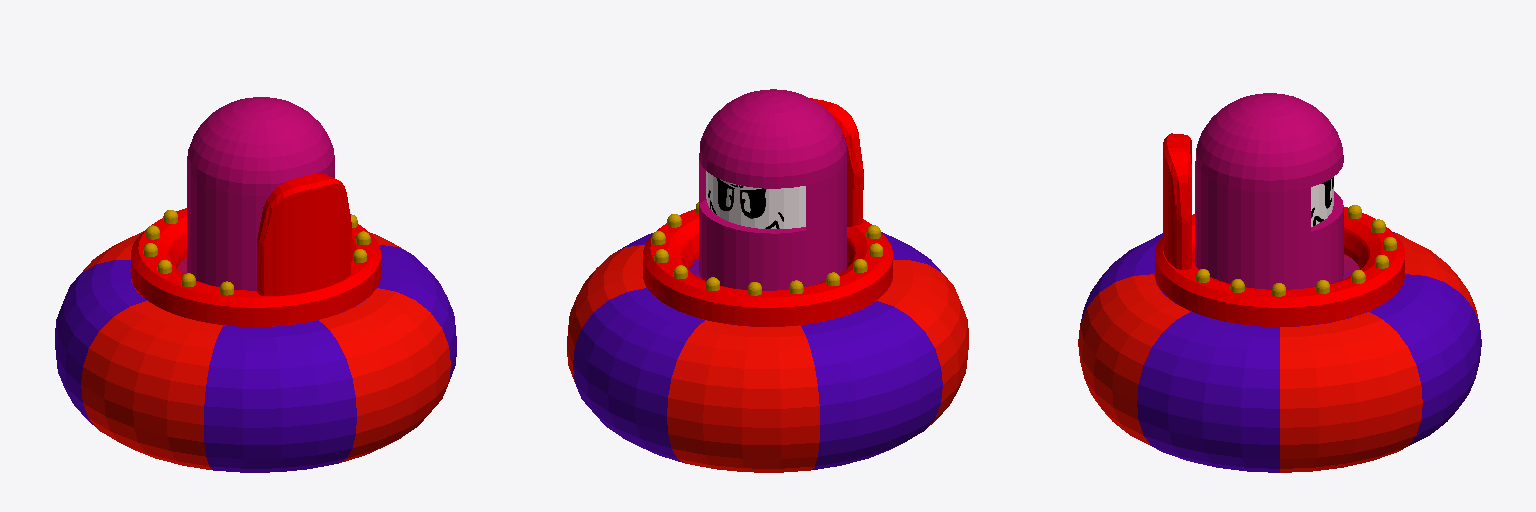
3 views of the same model, side by side, from view 1: azimuth 30°, elevation 25°; view 2: azimuth 150°, elevation 25°; view 3: azimuth 270°, elevation 25° (orthographic).
Parts seen in each view (by area): view 1: Bump_Circle, Driver_Sphere, Seat_Circle.001, Back_Cube.001; view 2: Bump_Circle, Driver_Sphere, Seat_Circle.001, Back_Cube.001; view 3: Bump_Circle, Driver_Sphere, Seat_Circle.001, Back_Cube.001.
Boxes of the visible parts, x1,y1,x2,y2 form: Bump_Circle: [55, 231, 456, 472]; Driver_Sphere: [187, 97, 334, 290]; Seat_Circle.001: [131, 208, 380, 326]; Back_Cube.001: [257, 174, 351, 295]; Bump_Circle: [567, 232, 968, 472]; Driver_Sphere: [699, 89, 846, 290]; Seat_Circle.001: [643, 209, 892, 326]; Back_Cube.001: [810, 98, 863, 226]; Bump_Circle: [1078, 232, 1481, 472]; Driver_Sphere: [1195, 93, 1343, 289]; Seat_Circle.001: [1155, 207, 1404, 326]; Back_Cube.001: [1163, 133, 1191, 269].
Bounding box in the file's own units: 2 × 1.7 × 2.
4 materials, 2 textured.